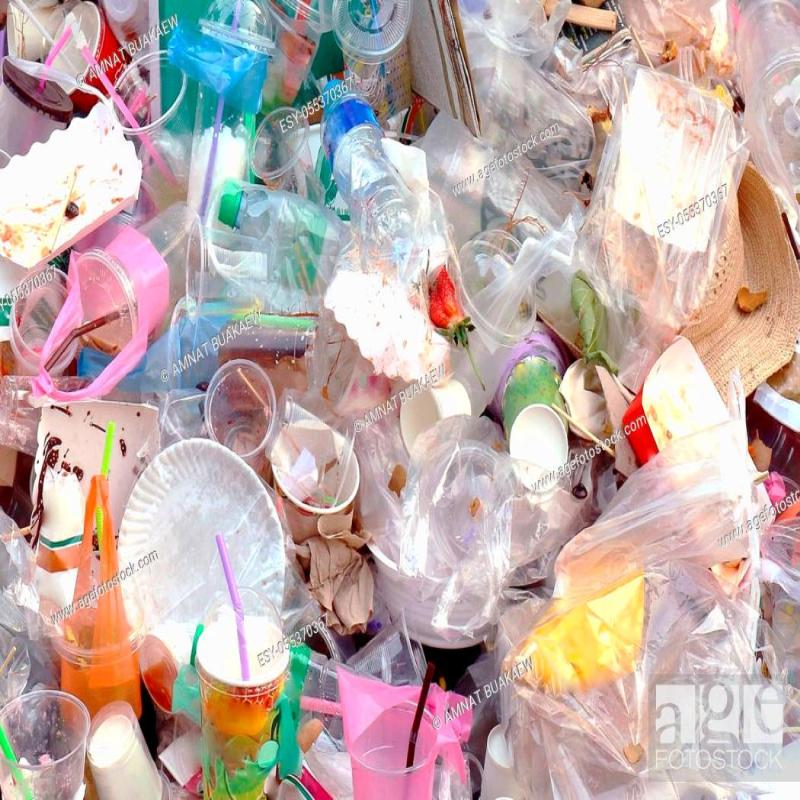botella: (188, 609, 389, 745), (323, 76, 422, 260), (217, 170, 353, 291)
